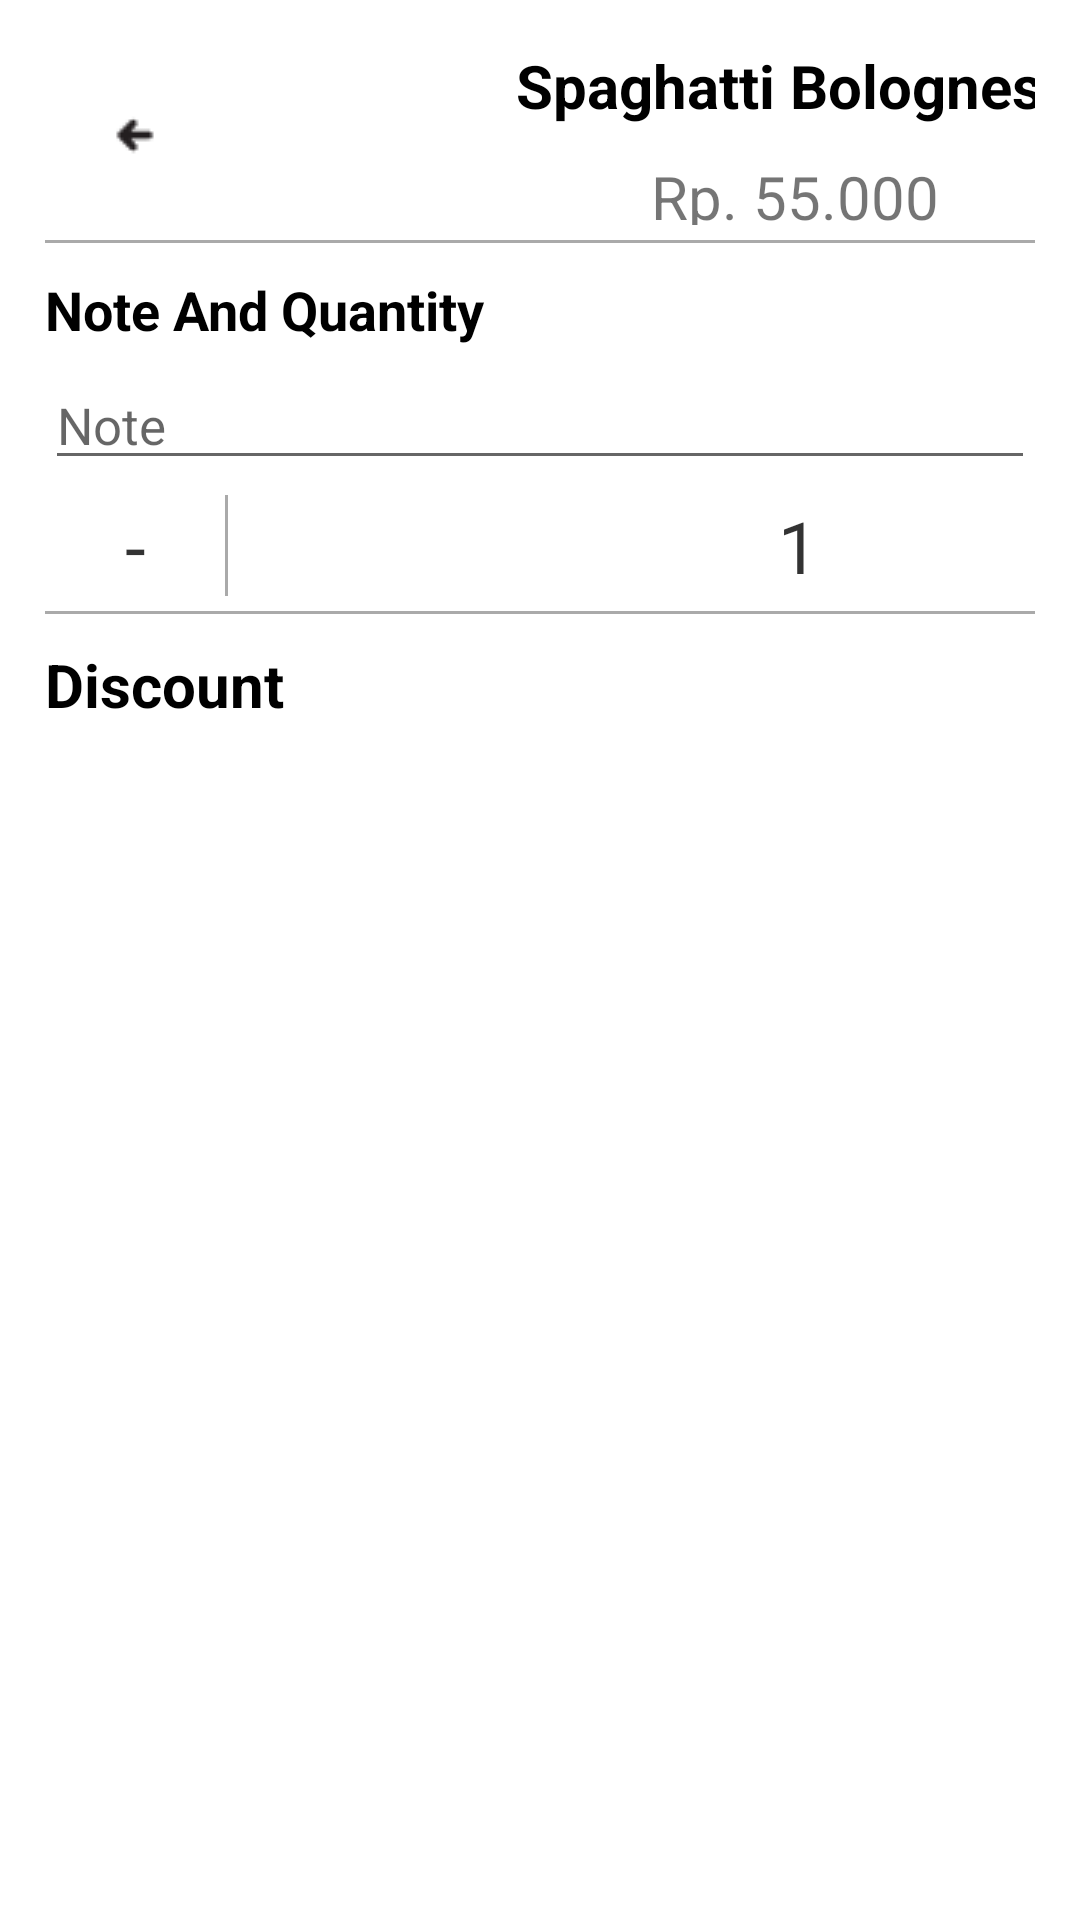

Icon bounding boxes for this 1080x1920 phone screenshot, format region(x1, y1, x2, y2):
arrowleft: region(116, 119, 154, 153)
